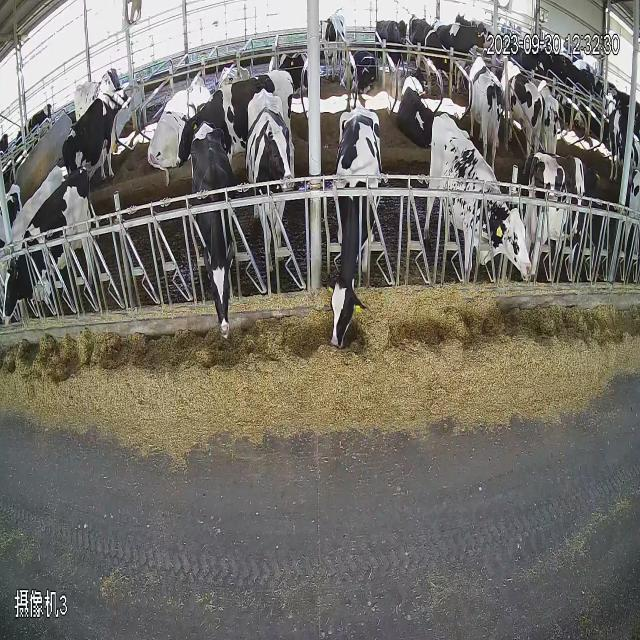lying down: (148, 42, 212, 190), (395, 47, 438, 150), (273, 19, 318, 116), (339, 32, 378, 98), (217, 40, 247, 94)
standing: (0, 158, 106, 344), (59, 41, 132, 186), (15, 77, 59, 149)
